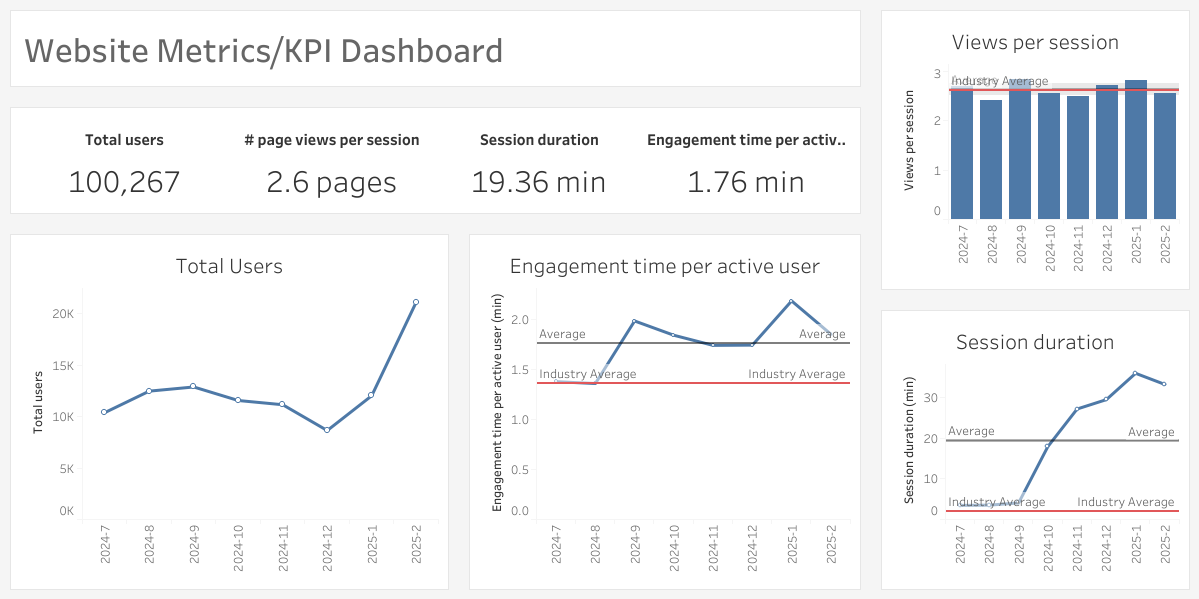

Layout of this report page (visuals, bound fields, positions):
{"tool":"tableau","page":{"name":"Dashboard 1","canvas":[1200,600],"ordinal":0},"visuals":[{"type":"text","box":[0,0,871,97]},{"type":"worksheet","title":"Views per session","mark":"Bar","rows":["Views per session"],"cols":["Chronological Date"],"box":[871,0,329,300]},{"type":"worksheet","title":"Overview","mark":"Automatic","box":[0,97,871,127]},{"type":"worksheet","title":"Total users","mark":"Line","rows":["Total users","Total users"],"cols":["Chronological Date"],"box":[0,224,458.9,376]},{"type":"worksheet","title":"Average engagement time per active user","mark":"Line","rows":["Average engagement time per active user","Average engagement time per active user"],"cols":["Chronological Date"],"box":[458.9,224,412,376]},{"type":"worksheet","title":"Average session duration","mark":"Line","rows":["Average session duration","Average session duration"],"cols":["Chronological Date"],"box":[871,300,329,300]}]}

Visuals, with their boxes in screenshot pixels (x1, y1, x2, y2), scaled from the page's 1200x600 canvas onto the 1199x599 screenshot:
text: left=0, top=0, right=870, bottom=97
"Views per session" worksheet (Bar marks): left=870, top=0, right=1198, bottom=300
"Overview" worksheet: left=0, top=97, right=870, bottom=224
"Total users" worksheet (Line marks): left=0, top=224, right=459, bottom=598
"Average engagement time per active user" worksheet (Line marks): left=459, top=224, right=870, bottom=598
"Average session duration" worksheet (Line marks): left=870, top=300, right=1198, bottom=598
